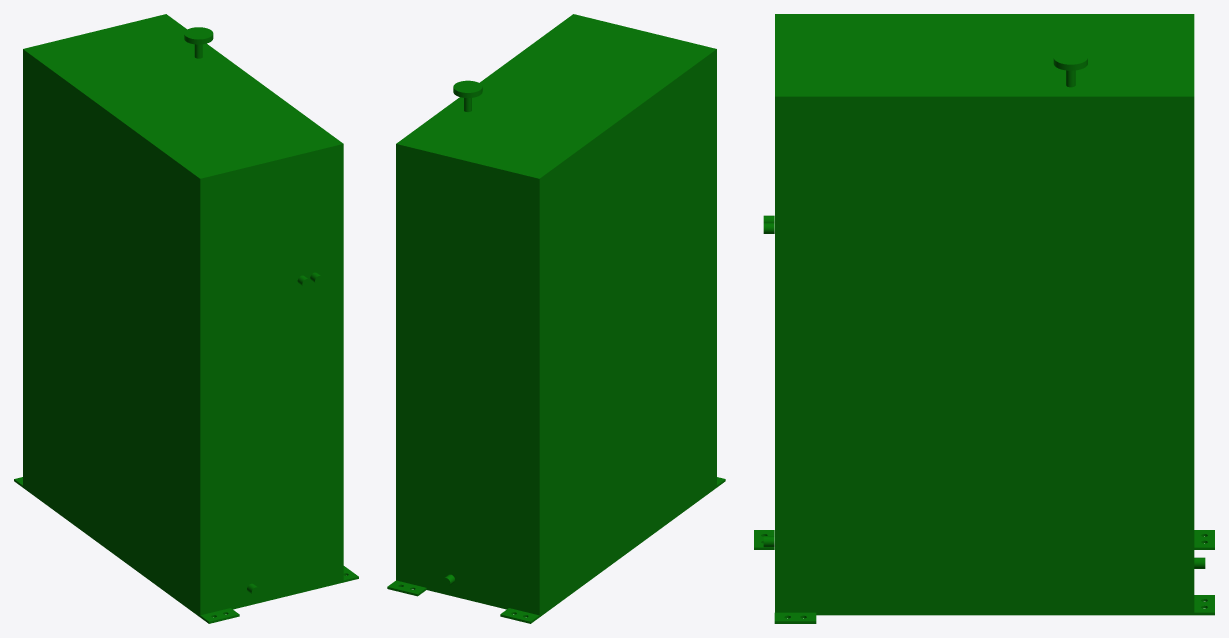
Rendered from Image-1710907666449-2280617038464_72-CX50.fbx.
3 renders of one model, left to right at view 1: azimuth 30°, elevation 25°; view 2: azimuth 150°, elevation 25°; view 3: azimuth 270°, elevation 25°, orthographic. The views are drawn at different scales.
Visible parts, largest first — view 1: BOX 1 of SUBEQUIPMENT /INERGEN_CABINET, /72-CX50/N501; view 2: BOX 1 of SUBEQUIPMENT /INERGEN_CABINET, /72-CX50/N501; view 3: BOX 1 of SUBEQUIPMENT /INERGEN_CABINET, /72-CX50/N501.
Boxes of the visible parts, bbox=[...] form: BOX 1 of SUBEQUIPMENT /INERGEN_CABINET: bbox=[23, 14, 343, 616]; /72-CX50/N501: bbox=[184, 27, 213, 58]; BOX 1 of SUBEQUIPMENT /INERGEN_CABINET: bbox=[396, 14, 716, 616]; /72-CX50/N501: bbox=[453, 80, 482, 111]; BOX 1 of SUBEQUIPMENT /INERGEN_CABINET: bbox=[775, 14, 1194, 615]; /72-CX50/N501: bbox=[1053, 50, 1087, 87].
Bounding box in the file's own units: 0.78 × 1.66 × 2.17.
